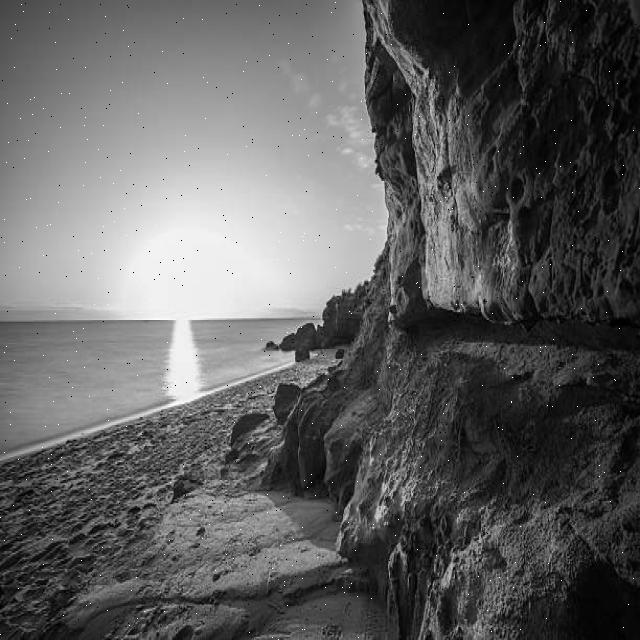Sedimentary: (288, 1, 640, 640)
